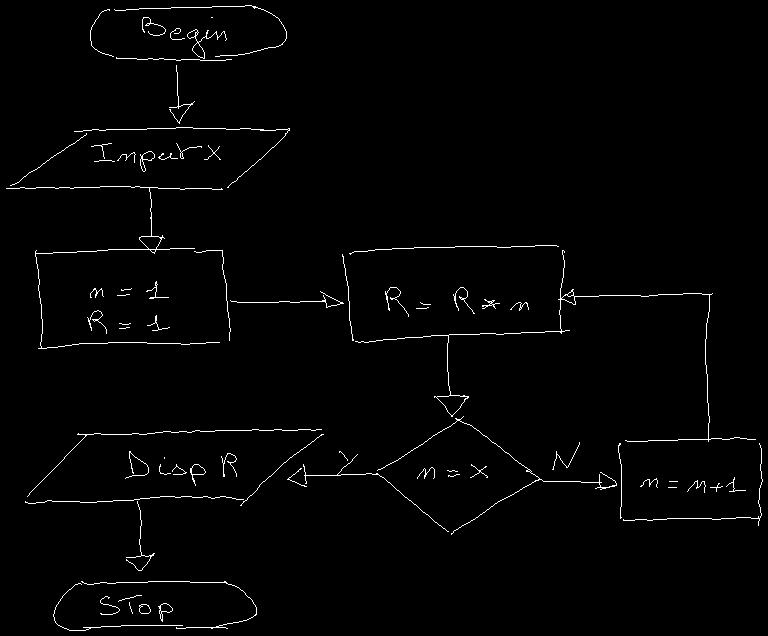arrow: (558, 289, 712, 441), (434, 335, 468, 416), (287, 464, 377, 486), (126, 501, 154, 570), (230, 291, 343, 307), (139, 188, 164, 253), (169, 65, 194, 123), (542, 472, 616, 489)
data: (25, 429, 323, 505), (6, 127, 289, 189)
decision: (376, 416, 541, 534)
process: (342, 245, 569, 342), (35, 248, 230, 348), (618, 437, 762, 525)
terminator: (90, 5, 286, 60), (53, 581, 256, 630)
text: (87, 281, 169, 333), (385, 287, 528, 316), (125, 451, 236, 485), (91, 143, 220, 171), (142, 17, 226, 58), (100, 595, 172, 621), (640, 477, 745, 492), (417, 464, 487, 478), (552, 442, 579, 469), (337, 451, 357, 474)
